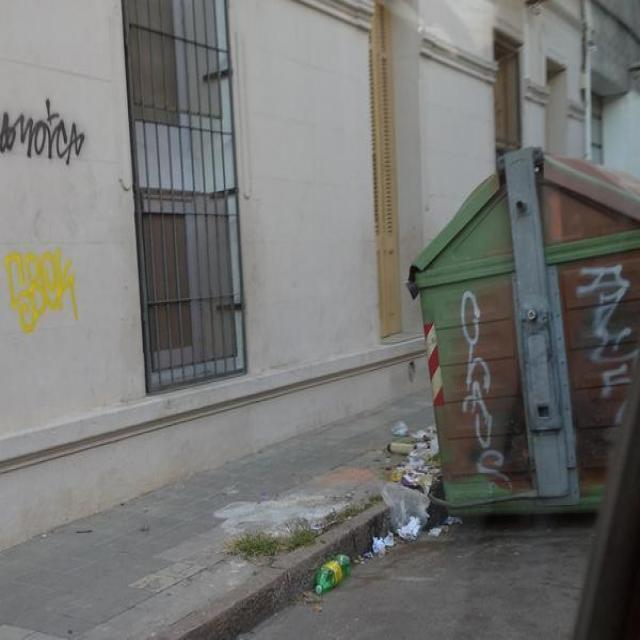garbage: (385, 398, 434, 561), (295, 534, 349, 604), (351, 532, 398, 558)
